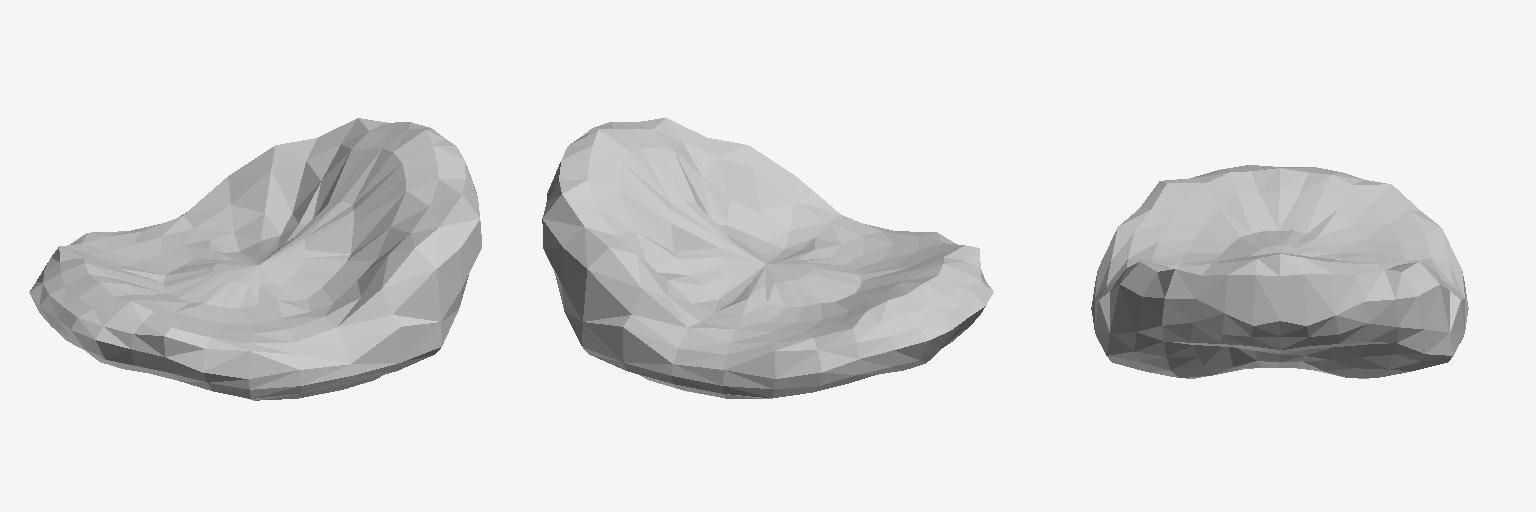
Rendered from lick3.obj.
3 views of the same model, side by side, from view 1: azimuth 30°, elevation 25°; view 2: azimuth 150°, elevation 25°; view 3: azimuth 270°, elevation 25° (orthographic).
Parts seen in each view (by area): view 1: Sphere_Sphere.002; view 2: Sphere_Sphere.002; view 3: Sphere_Sphere.002.
Boxes of the visible parts, <box> form: Sphere_Sphere.002: <box>29,118,481,400</box>; Sphere_Sphere.002: <box>542,118,993,398</box>; Sphere_Sphere.002: <box>1091,165,1468,378</box>.
Size of the model in its own units: 2.75 by 1.11 by 2.23.